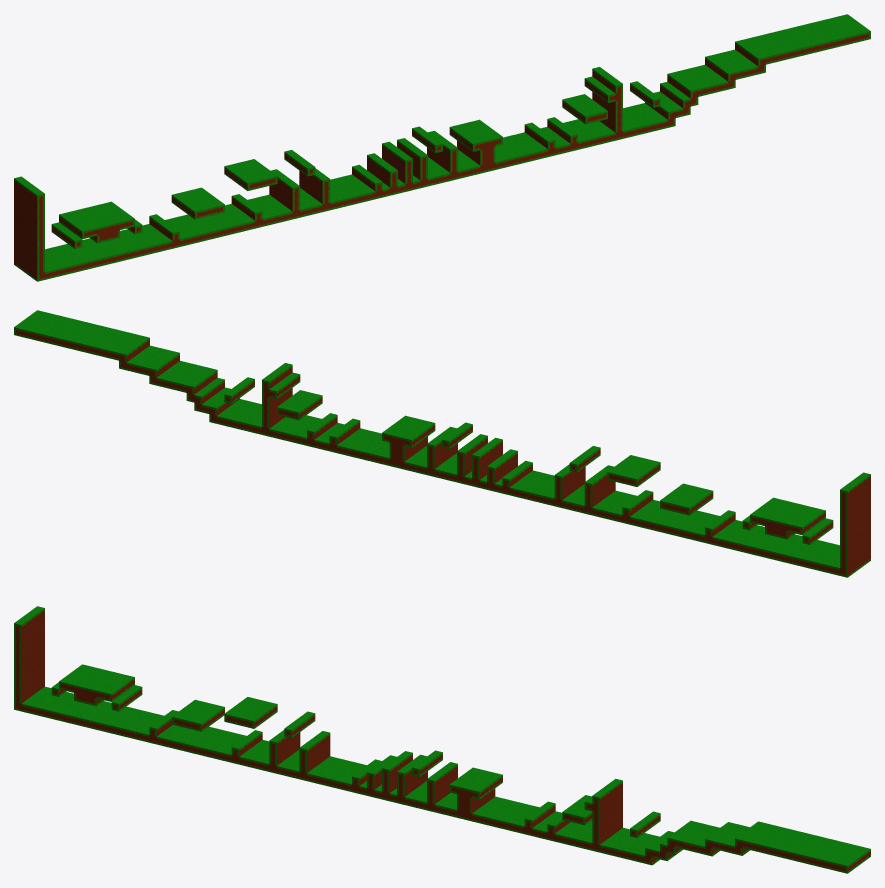
File: Luna1Solo.glb
The picture shows the model from 3 angles, top to bottom: view 1: azimuth 30°, elevation 25°; view 2: azimuth 150°, elevation 25°; view 3: azimuth 330°, elevation 25°; orthographic projection.
Visible parts, largest first — view 1: Setor_0, Setor_1, Setor_2, Setor_3; view 2: Setor_0, Setor_1, Setor_2, Setor_3; view 3: Setor_0, Setor_1, Setor_2, Setor_3.
Boxes of the visible parts, x1,y1,x2,y2 form: Setor_0: (14,159,277,281); Setor_1: (254,119,517,222); Setor_2: (502,49,758,164); Setor_3: (735,14,870,74); Setor_0: (607,455,870,577); Setor_1: (367,415,630,518); Setor_2: (126,345,382,460); Setor_3: (14,310,149,370); Setor_0: (14,606,277,767); Setor_1: (254,704,517,826); Setor_2: (494,778,749,865); Setor_3: (735,821,870,873).
Size of the model in its own units: 115 by 11.44 by 5.6.
1 material, 1 textured.
